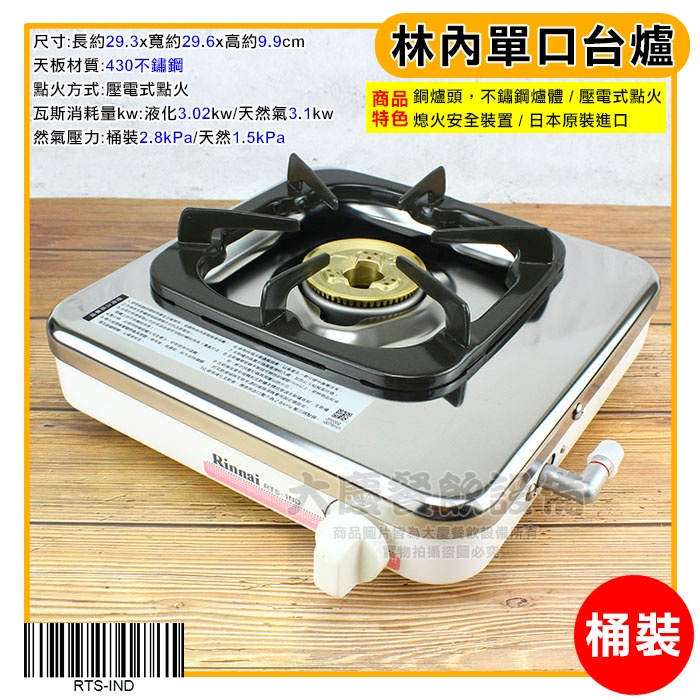gasoven: (49, 151, 663, 598)
